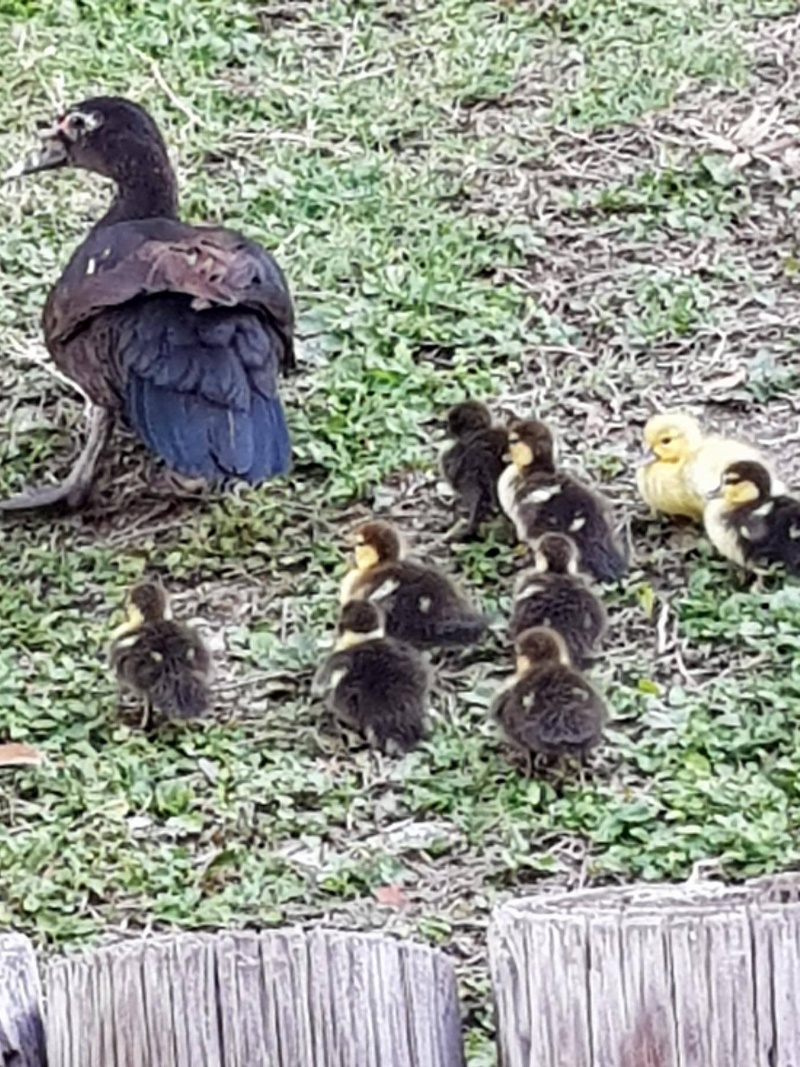pato: (1, 97, 292, 488)
